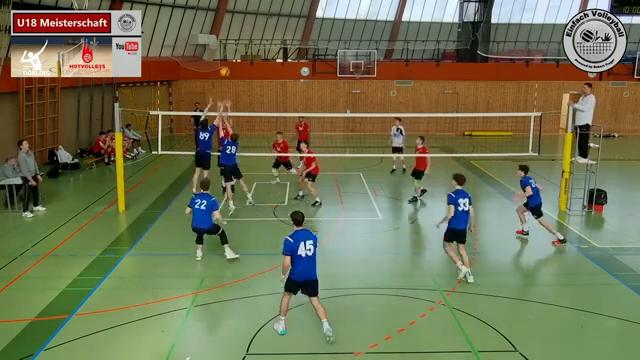Block: (212, 109, 261, 212), (191, 99, 214, 202)
Player: (273, 211, 333, 341), (185, 177, 238, 260), (436, 173, 474, 282), (514, 165, 565, 244), (295, 141, 321, 206), (408, 136, 428, 202), (390, 117, 405, 173), (272, 155, 294, 183), (295, 116, 309, 152)
ball: (218, 66, 230, 77)
